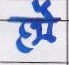au_matra: (35, 0, 60, 40)
